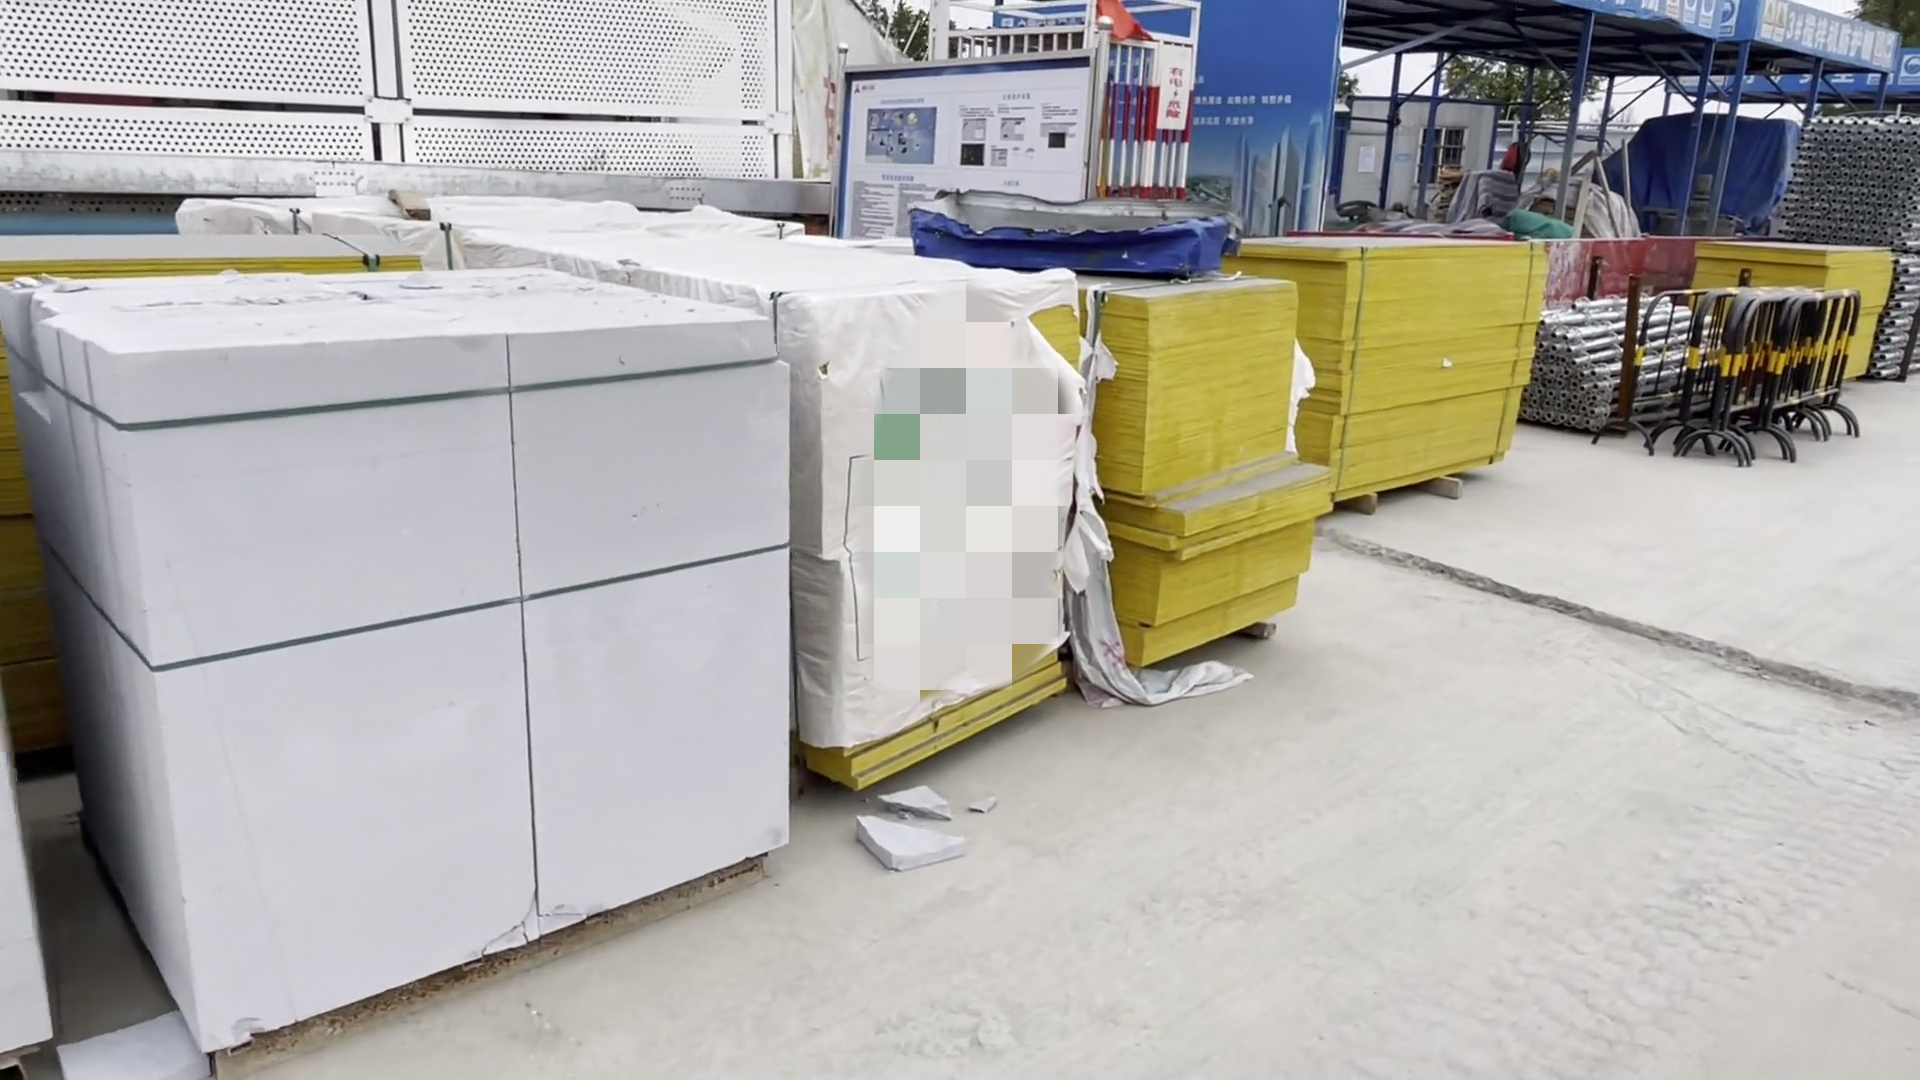board: (1102, 277, 1317, 690), (1315, 214, 1569, 525)
brick: (32, 277, 796, 1029)
slogan: (1673, 1, 1904, 84)
